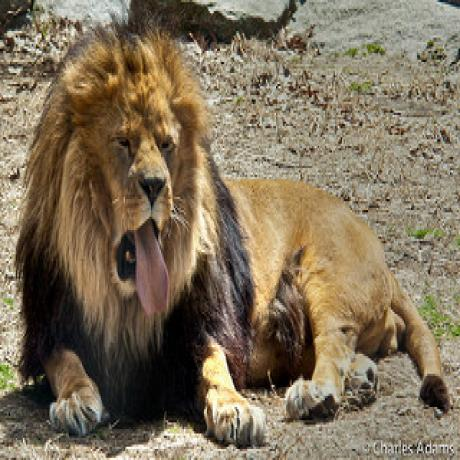Lion: (14, 21, 452, 449)
